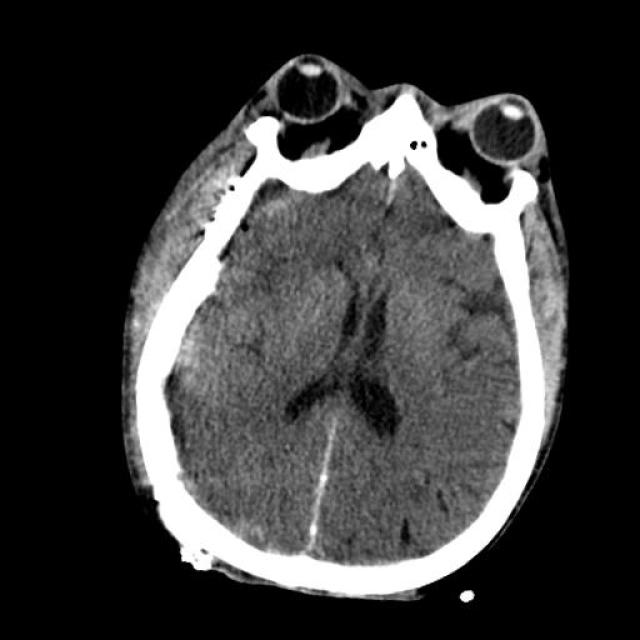Subdural: (273, 411, 382, 580)
